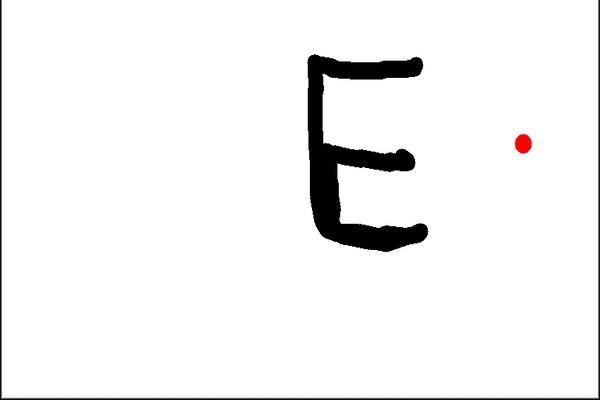E: (297, 47, 446, 254)
